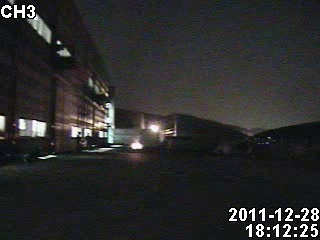fire: (125, 134, 149, 154)
